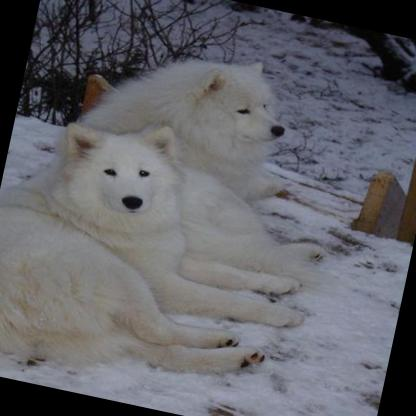Samoyed: (0, 93, 339, 416), (37, 23, 356, 314)
